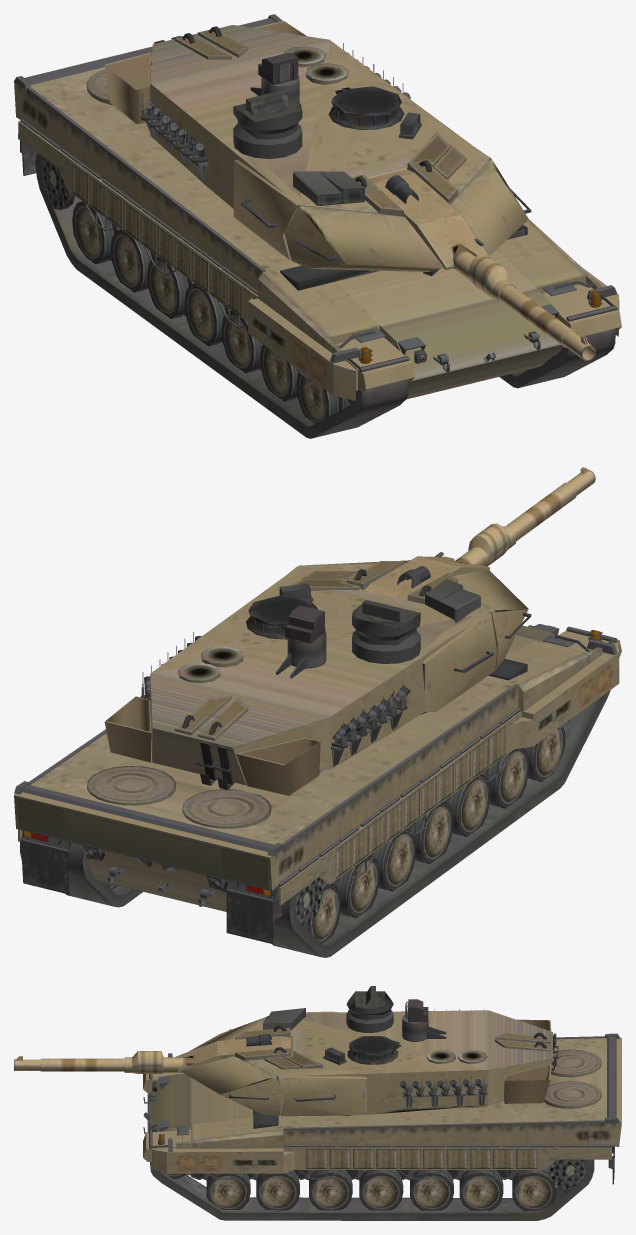
File: armored_tank.glb
The picture shows the model from 3 angles, top to bottom: view 1: azimuth 30°, elevation 25°; view 2: azimuth 150°, elevation 25°; view 3: azimuth 270°, elevation 25°; orthographic projection. The views are drawn at different scales.
Parts seen in each view (by area): view 1: Body 1_Textures Body _0, Body 2_Textures Body _0, Track Chains_R_Textures Body _0, Body 3_Textures Body _0, Track Chains_L_Textures Body _0, Wheel_R 5_Textures Body _0, Wheel_R 8_Textures Body _0, Wheel_R 7_Textures Body _0, Wheel_R 6_Textures Body _0, Wheel_R 4_Textures Body _0, Wheel_R 2_Textures Body _0, Wheel_R 3_Textures Body _0 (+1 smaller); view 2: Body 1_Textures Body _0, Body 2_Textures Body _0, Track Chains_R_Textures Body _0, Body 3_Textures Body _0, Track Chains_L_Textures Body _0, Wheel_R 4_Textures Body _0, Wheel_R 7_Textures Body _0, Wheel_R 3_Textures Body _0, Wheel_R 6_Textures Body _0, Wheel_R 5_Textures Body _0, Wheel_R 2_Textures Body _0, Wheel_R 8_Textures Body _0 (+1 smaller); view 3: Body 1_Textures Body _0, Body 2_Textures Body _0, Track Chains_L_Textures Body _0, Body 3_Textures Body _0, Wheel_L 5_Textures Body _0, Wheel_L 7_Textures Body _0, Wheel_L 6_Textures Body _0, Wheel_L 4_Textures Body _0, Wheel_L 8_Textures Body _0, Wheel_L 3_Textures Body _0, Wheel_L 2_Textures Body _0, Wheel_L 9_Textures Body _0.
Boxes of the visible parts, x1,y1,x2,y2 form: Body 1_Textures Body _0: (14, 14, 621, 400); Body 2_Textures Body _0: (104, 21, 531, 271); Track Chains_R_Textures Body _0: (35, 149, 408, 438); Body 3_Textures Body _0: (368, 169, 595, 361); Track Chains_L_Textures Body _0: (499, 328, 615, 388); Wheel_R 5_Textures Body _0: (184, 283, 231, 346); Wheel_R 8_Textures Body _0: (72, 201, 120, 264); Wheel_R 7_Textures Body _0: (111, 229, 154, 292); Wheel_R 6_Textures Body _0: (147, 256, 194, 318); Wheel_R 4_Textures Body _0: (221, 310, 262, 373); Wheel_R 2_Textures Body _0: (296, 372, 350, 423); Wheel_R 3_Textures Body _0: (260, 344, 298, 401); Body 1_Textures Body _0: (14, 624, 621, 943); Body 2_Textures Body _0: (104, 560, 531, 795); Track Chains_R_Textures Body _0: (272, 690, 610, 957); Body 3_Textures Body _0: (363, 467, 595, 600); Track Chains_L_Textures Body _0: (65, 843, 142, 907); Wheel_R 4_Textures Body _0: (444, 774, 490, 836); Wheel_R 7_Textures Body _0: (331, 855, 379, 918); Wheel_R 3_Textures Body _0: (481, 748, 528, 808); Wheel_R 6_Textures Body _0: (370, 828, 415, 891); Wheel_R 5_Textures Body _0: (407, 801, 453, 863); Wheel_R 2_Textures Body _0: (523, 725, 565, 781); Wheel_R 8_Textures Body _0: (307, 881, 340, 943); Body 1_Textures Body _0: (143, 1033, 621, 1184); Body 2_Textures Body _0: (180, 986, 558, 1116); Track Chains_L_Textures Body _0: (150, 1131, 594, 1220); Body 3_Textures Body _0: (14, 1033, 291, 1073); Wheel_L 5_Textures Body _0: (359, 1170, 403, 1210); Wheel_L 7_Textures Body _0: (459, 1170, 503, 1210); Wheel_L 6_Textures Body _0: (410, 1170, 453, 1210); Wheel_L 4_Textures Body _0: (309, 1170, 352, 1210); Wheel_L 8_Textures Body _0: (512, 1169, 555, 1210); Wheel_L 3_Textures Body _0: (256, 1170, 299, 1210); Wheel_L 2_Textures Body _0: (206, 1173, 250, 1209); Wheel_L 9_Textures Body _0: (548, 1159, 586, 1190).
Size of the model in its own units: 1.66 by 1.39 by 4.49.
1 material, 1 textured.
